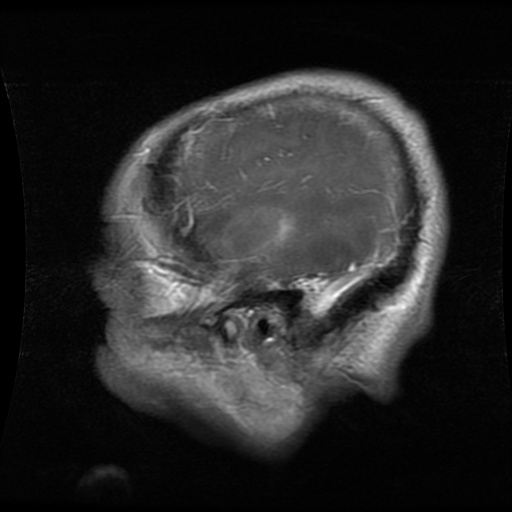glioma: (219, 207, 289, 254)
